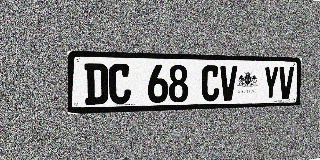6: (148, 64, 168, 103)
8: (169, 65, 188, 102)
C: (109, 64, 131, 104), (201, 65, 220, 101)
D: (84, 63, 108, 105)
V: (220, 65, 237, 101), (278, 66, 294, 99)
Y: (263, 66, 279, 100)
